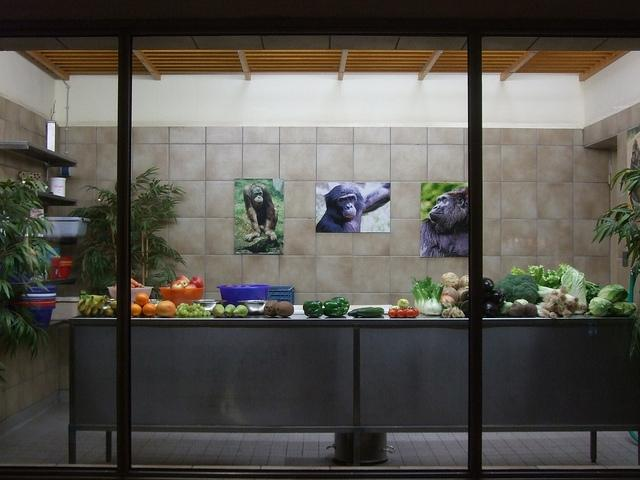banana: (85, 294, 108, 304), (77, 294, 86, 312), (82, 295, 94, 308), (94, 299, 105, 312), (92, 306, 98, 316), (85, 306, 92, 314), (110, 300, 117, 308)
bell pepper: (303, 300, 323, 318), (323, 300, 345, 316), (332, 297, 350, 315)
broccoli: (492, 272, 574, 304)
tomato: (406, 309, 416, 318), (388, 309, 397, 318), (396, 310, 406, 318), (414, 308, 419, 318)
